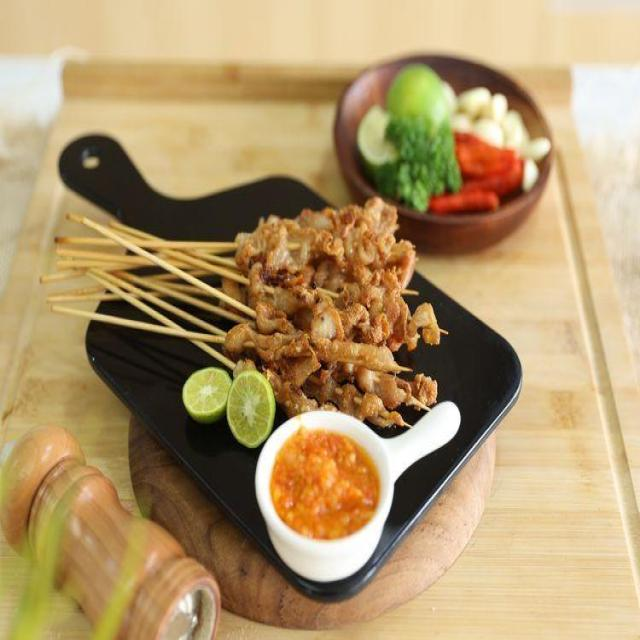Sate: (38, 181, 450, 442)
